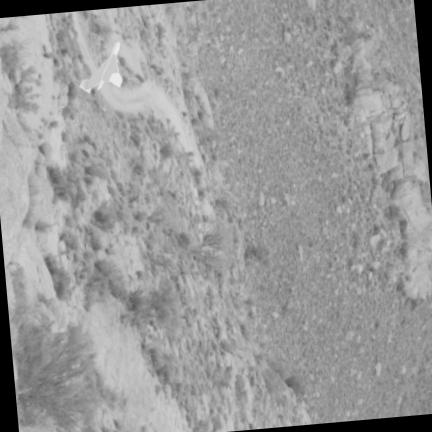Shahed: (79, 42, 122, 92)
